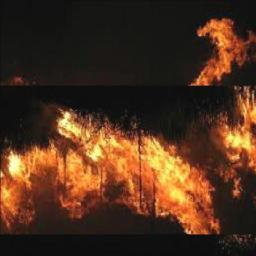Large fire: (1, 18, 256, 234)
